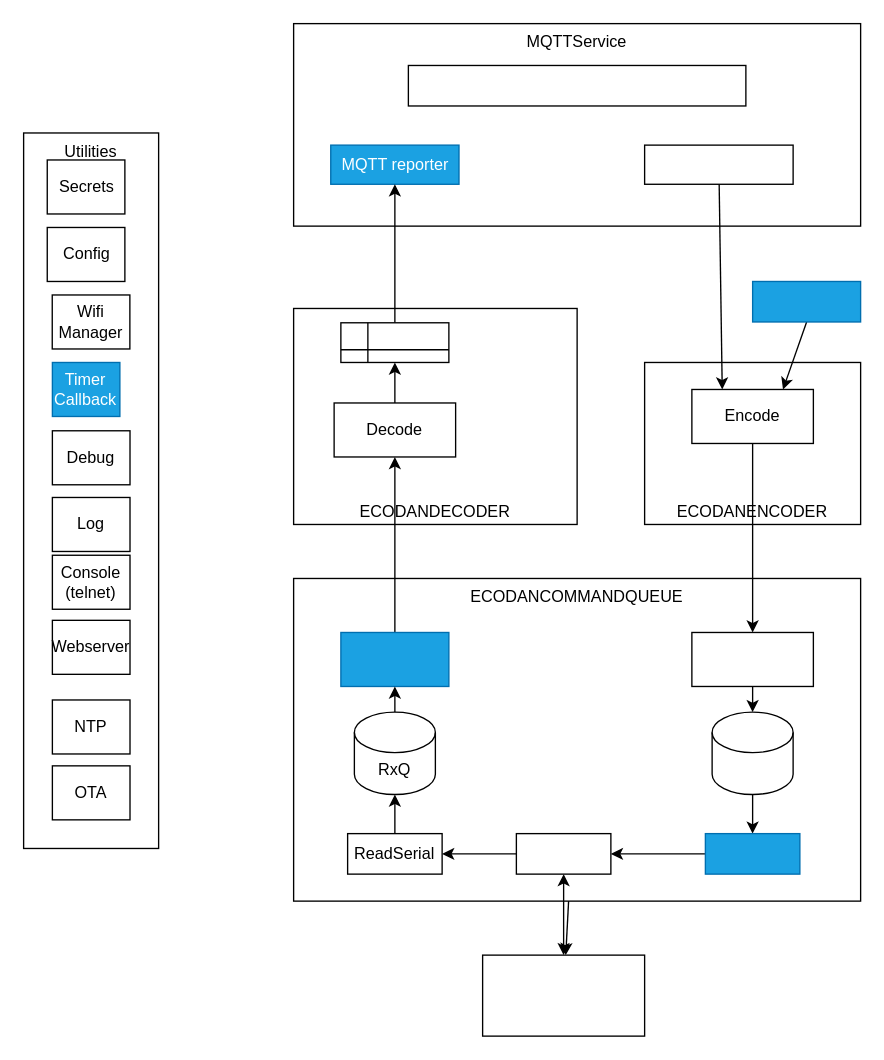
This 884x1060 diagram has some shape labels left out. Here are the shapes that lost their labels. From the top down, the centre of each, then its label:
At point (576, 85): "MQTTclient".
At point (718, 164): "MQTT.subscribe".
At point (806, 301): "State Machine".
At point (394, 341): "Status".
At point (394, 658): "PopRxMsg".
At point (752, 658): "pushTxMsg".
At point (752, 752): "TxQ".
At point (563, 853): "Serial".
At point (752, 853): "WriteSerial".
At point (563, 995): "Ecodan".
